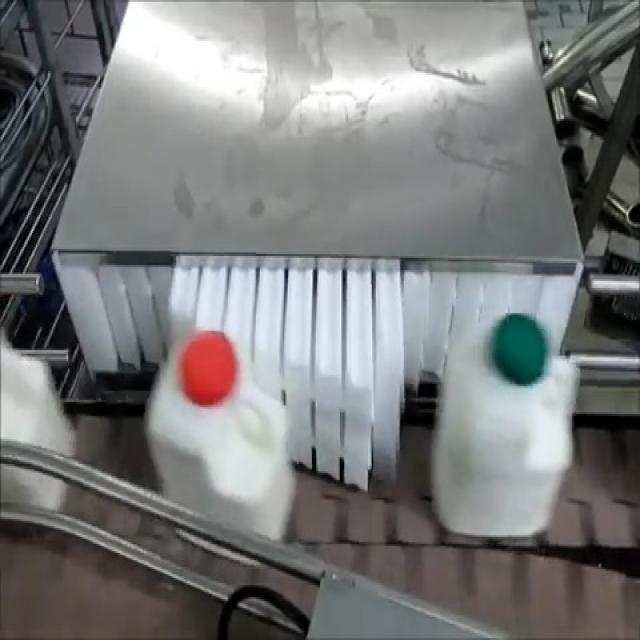milk: (141, 298, 324, 541), (439, 298, 593, 546)
